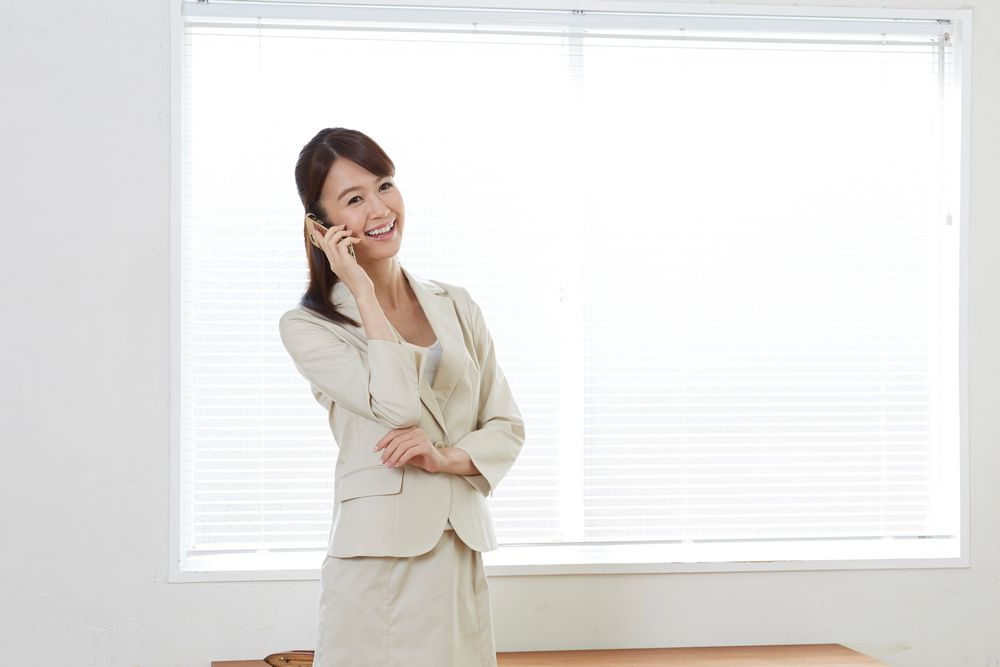phone: (305, 217, 367, 270)
talk: (299, 172, 410, 290)
